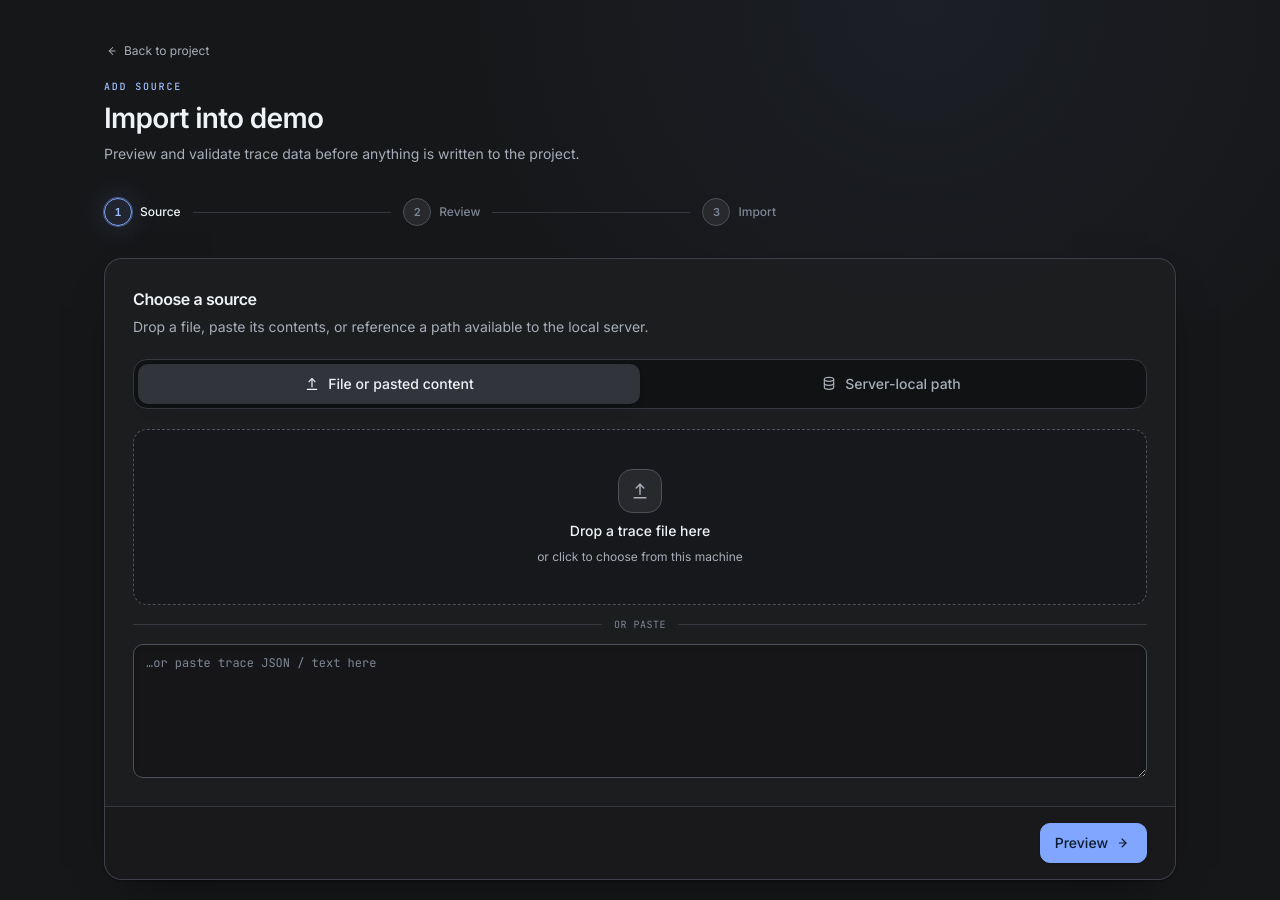
ImportWizard › imports and polls the job to completion, showing a success message
This screenshot has width=1280, height=900.
Type "some content" into the text box with placeholder "…or paste trace JSON / text here" at point(640, 711), box left=133, top=644, right=1147, bottom=778
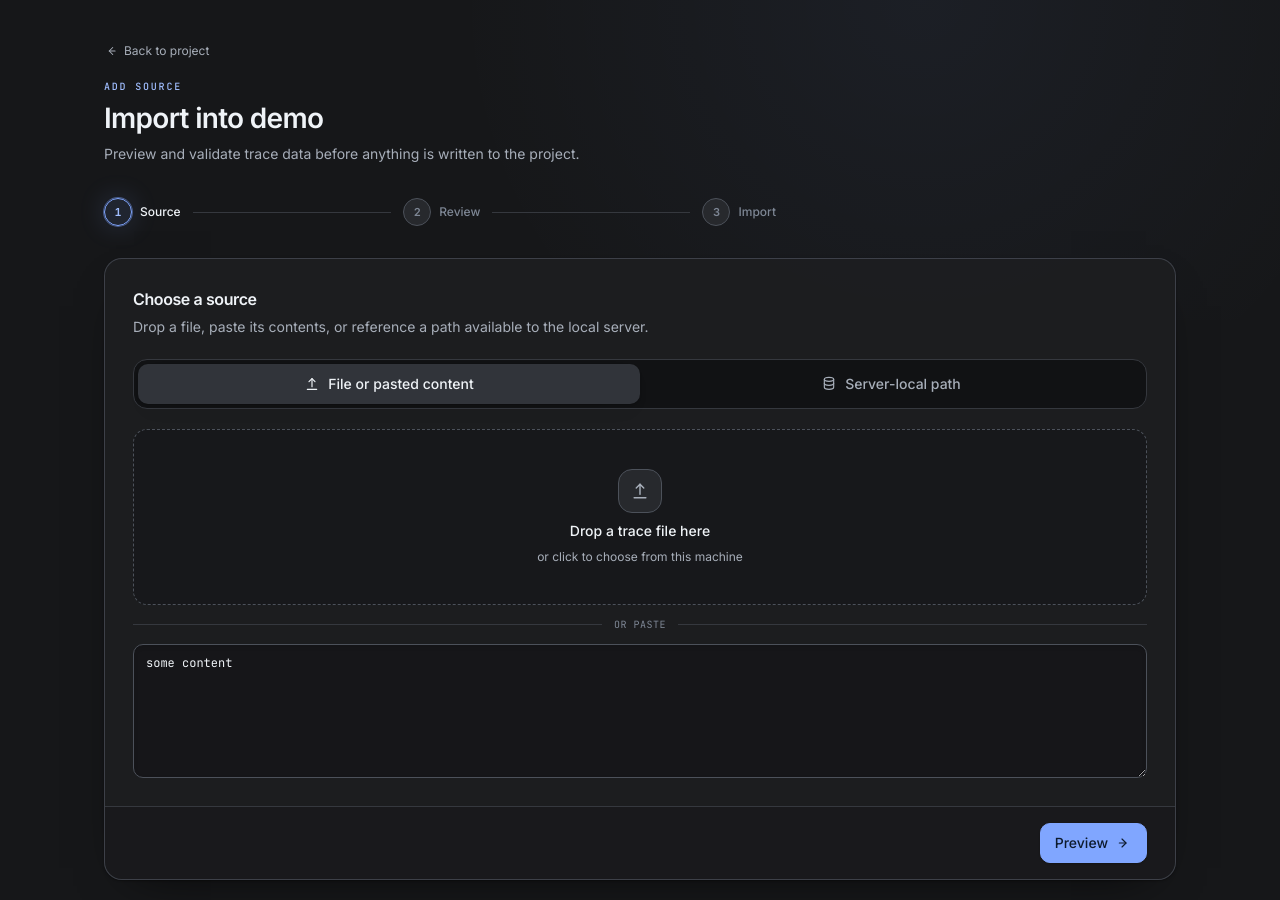
Click the button "Preview" at point(1093, 843), box left=1040, top=823, right=1147, bottom=863
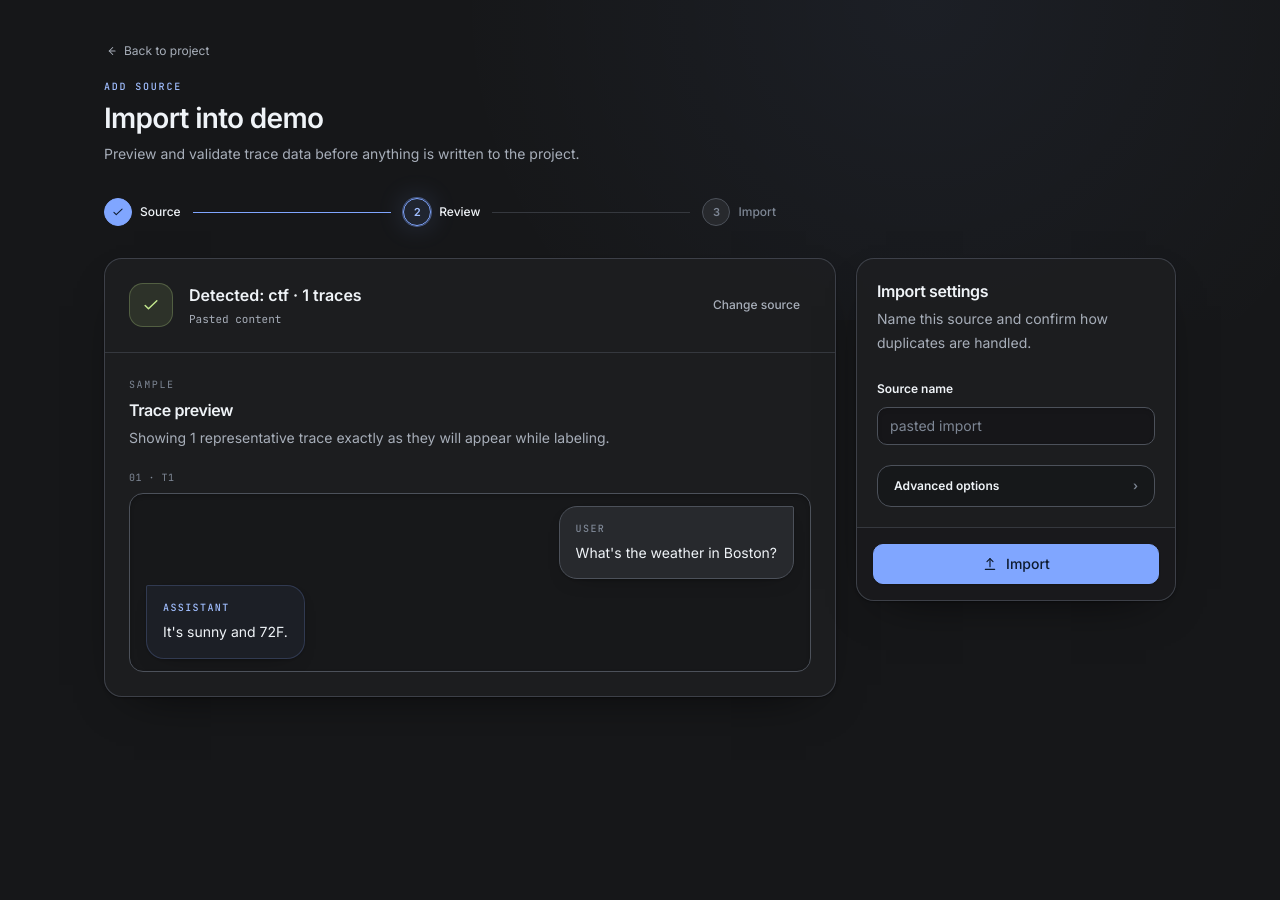
Expected: the text "Detected: ctf · 1 traces" is shown, left=189, top=285, right=362, bottom=305
Click the button "Import" at point(1016, 564), box left=873, top=544, right=1159, bottom=584
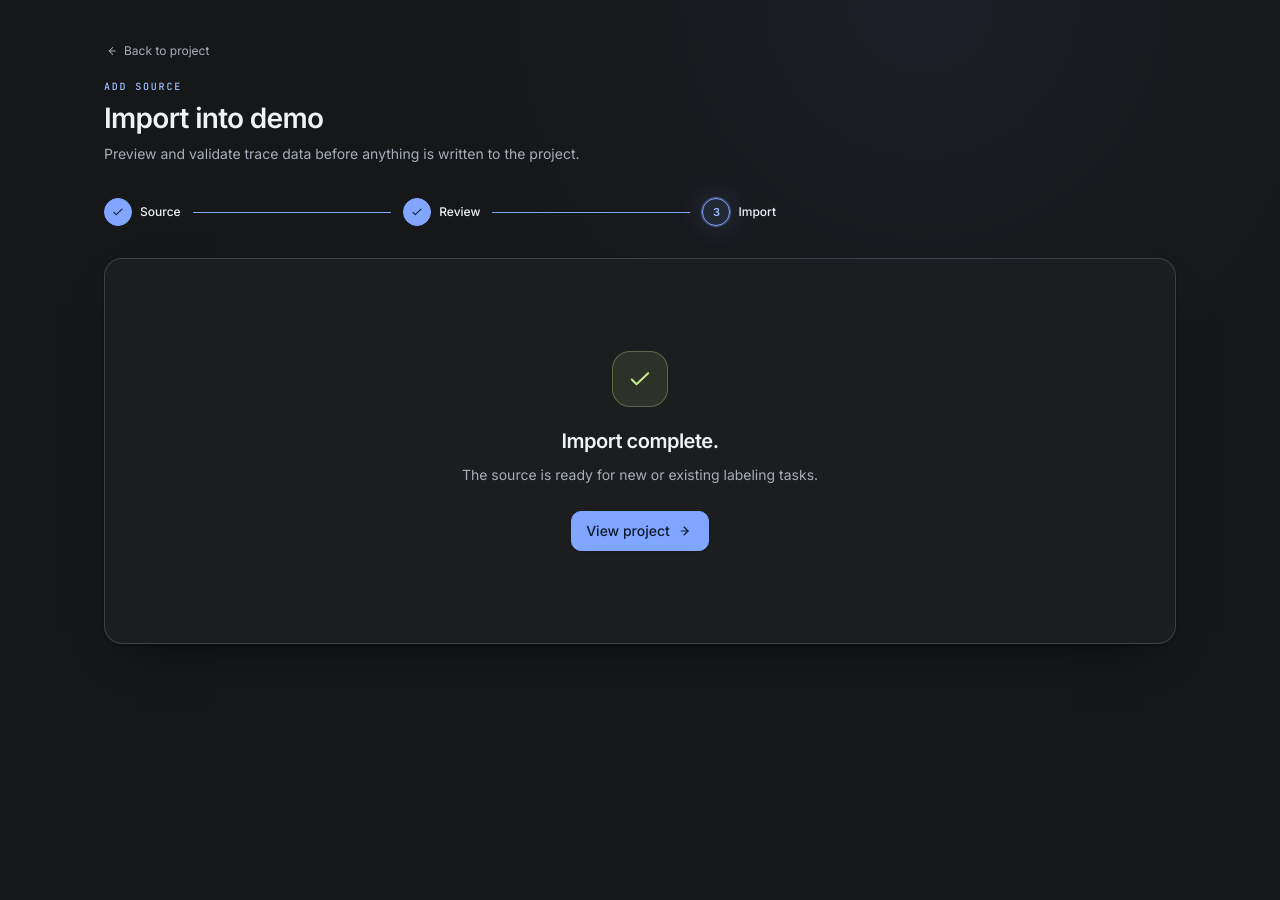
Expected: the heading "Import complete." is shown, left=562, top=429, right=719, bottom=453
